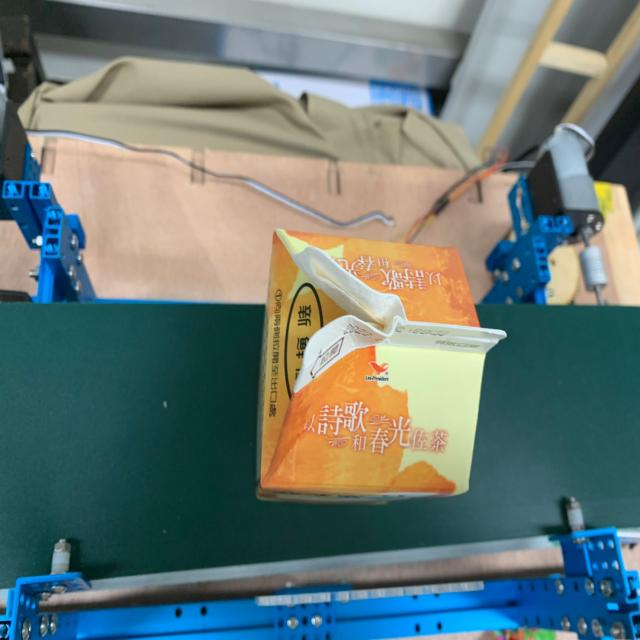non_white_jug: (247, 217, 517, 514)
